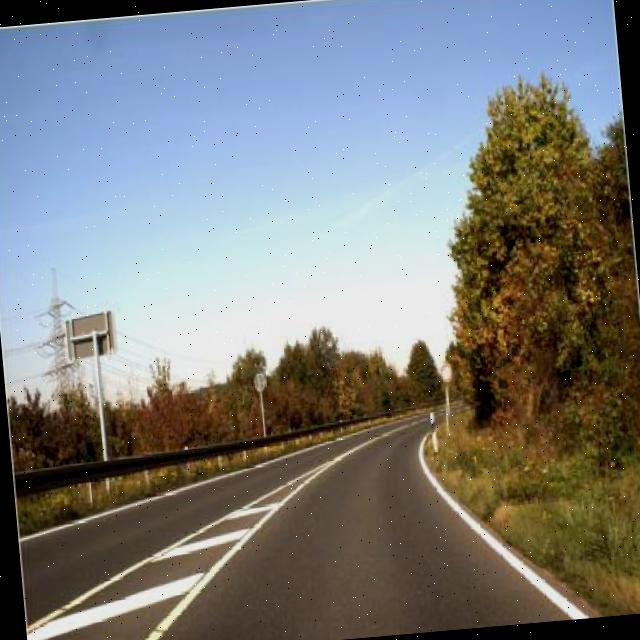Ograniczenie predkosci do 70: (440, 362, 456, 382)
